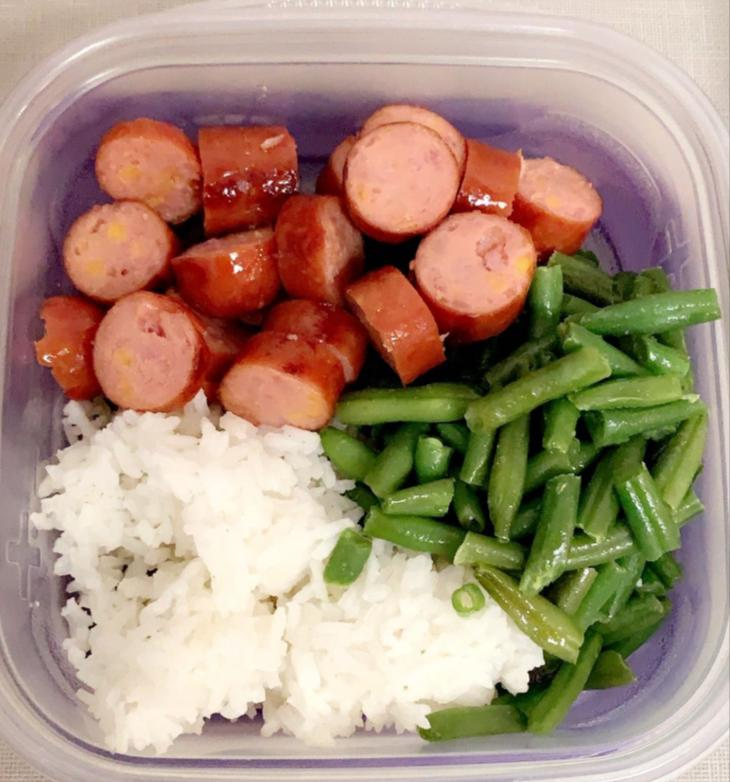buah_sayur_lainnya: (489, 364, 665, 573)
daging: (112, 147, 509, 332)
makanan_berpati: (90, 458, 312, 685)
